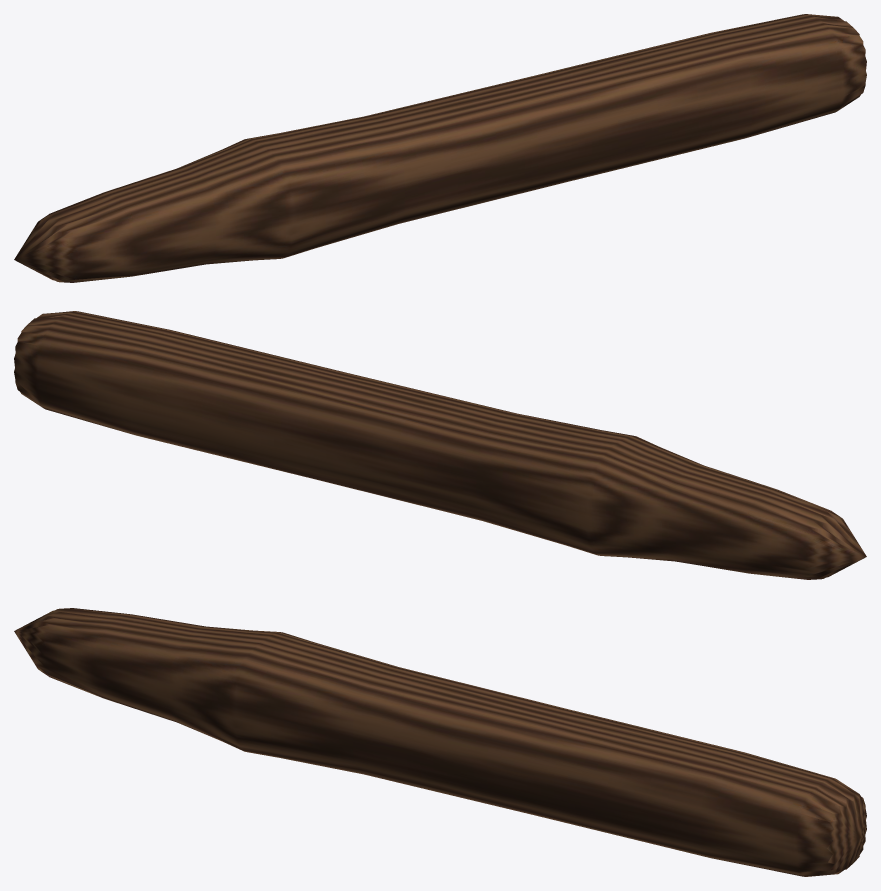
The model's file is pin.glb.
3 views of the same model, one above another, from view 1: azimuth 30°, elevation 25°; view 2: azimuth 150°, elevation 25°; view 3: azimuth 330°, elevation 25° (orthographic).
Parts seen in each view (by area): view 1: pin; view 2: pin; view 3: pin.
Boxes of the visible parts, x1,y1,x2,y2 form: pin: [14, 14, 866, 282]; pin: [14, 311, 866, 579]; pin: [14, 608, 866, 876].
Size of the model in its own units: 0.3962 by 0.0468 by 0.0468.
Materials: 1 (1 with a texture image).
